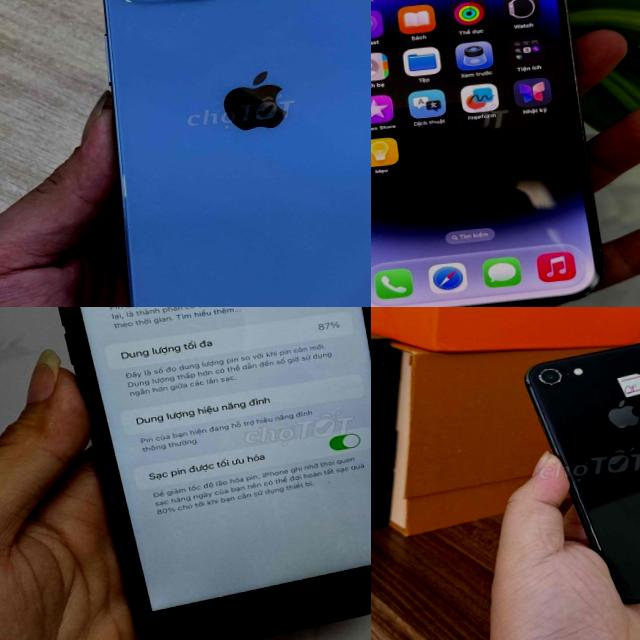gen_14: (89, 0, 371, 307), (371, 0, 617, 307)
gen_7_8: (32, 307, 371, 640), (518, 329, 640, 615)
scratch: (109, 512, 142, 616), (530, 362, 570, 388)
